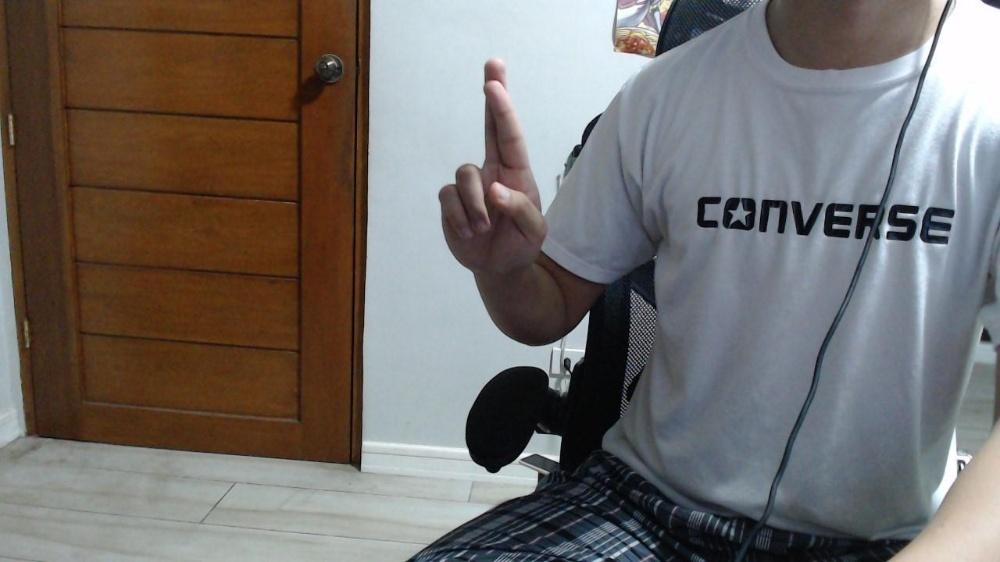r: (440, 57, 546, 270)
